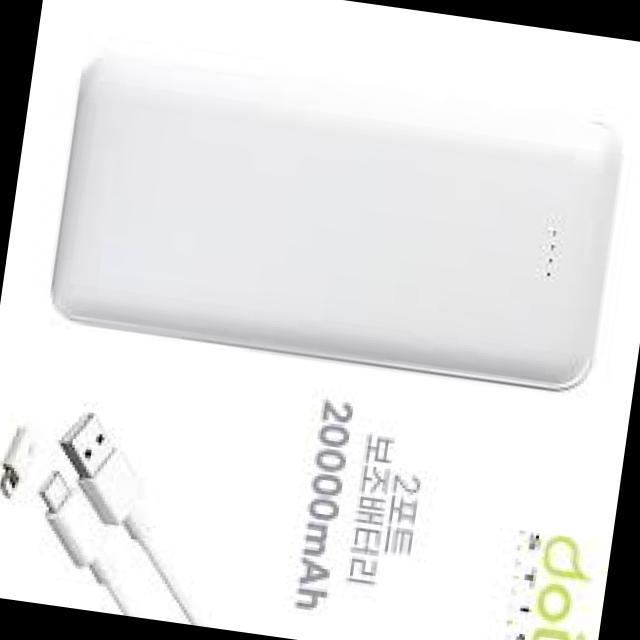portable-charger: (41, 46, 632, 403)
